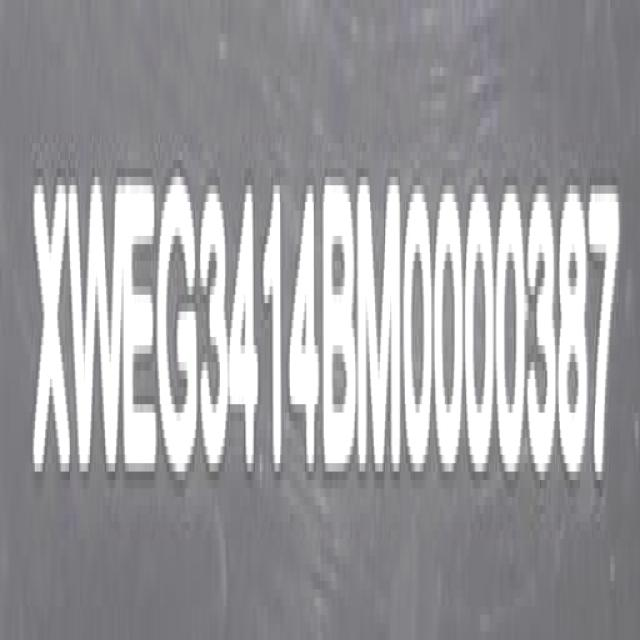0: (434, 175, 466, 477), (464, 181, 496, 480), (496, 181, 526, 483), (404, 187, 434, 480)
1: (261, 181, 285, 486)
3: (197, 181, 231, 505), (525, 194, 557, 481)
4: (288, 159, 320, 487), (227, 178, 260, 483)
7: (585, 168, 622, 484)
8: (557, 174, 588, 486)
B: (322, 168, 358, 493)
E: (123, 156, 158, 480)
G: (156, 162, 200, 480)
M: (356, 168, 403, 478)
W: (69, 162, 125, 487)
X: (32, 168, 72, 490)
